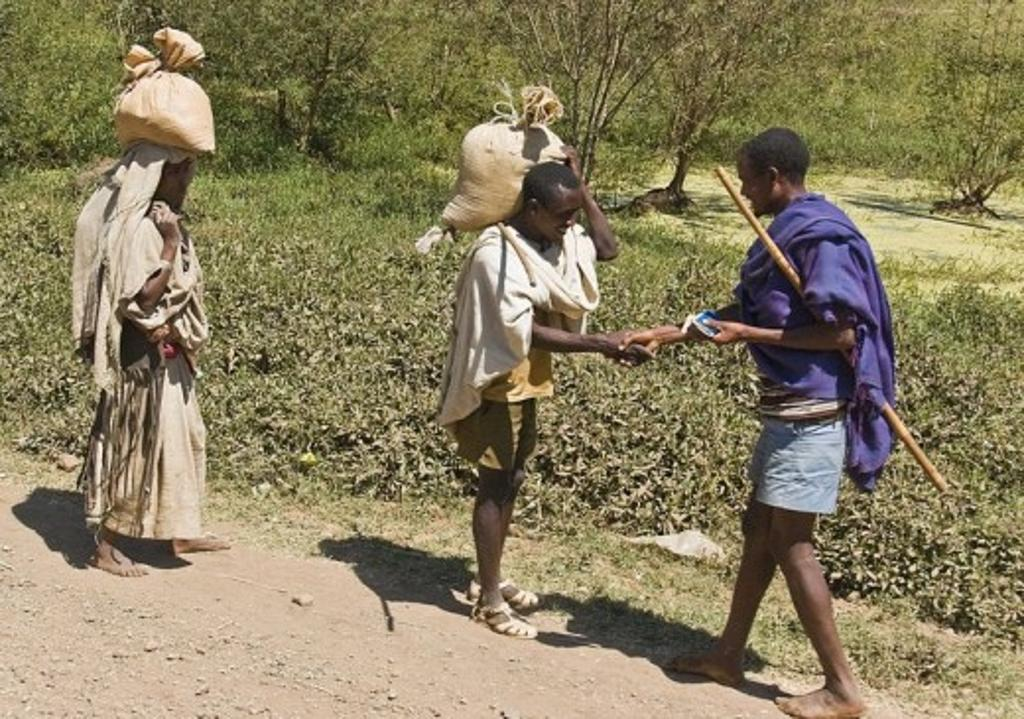face: (738, 161, 778, 215), (535, 196, 580, 244), (153, 156, 190, 205)
